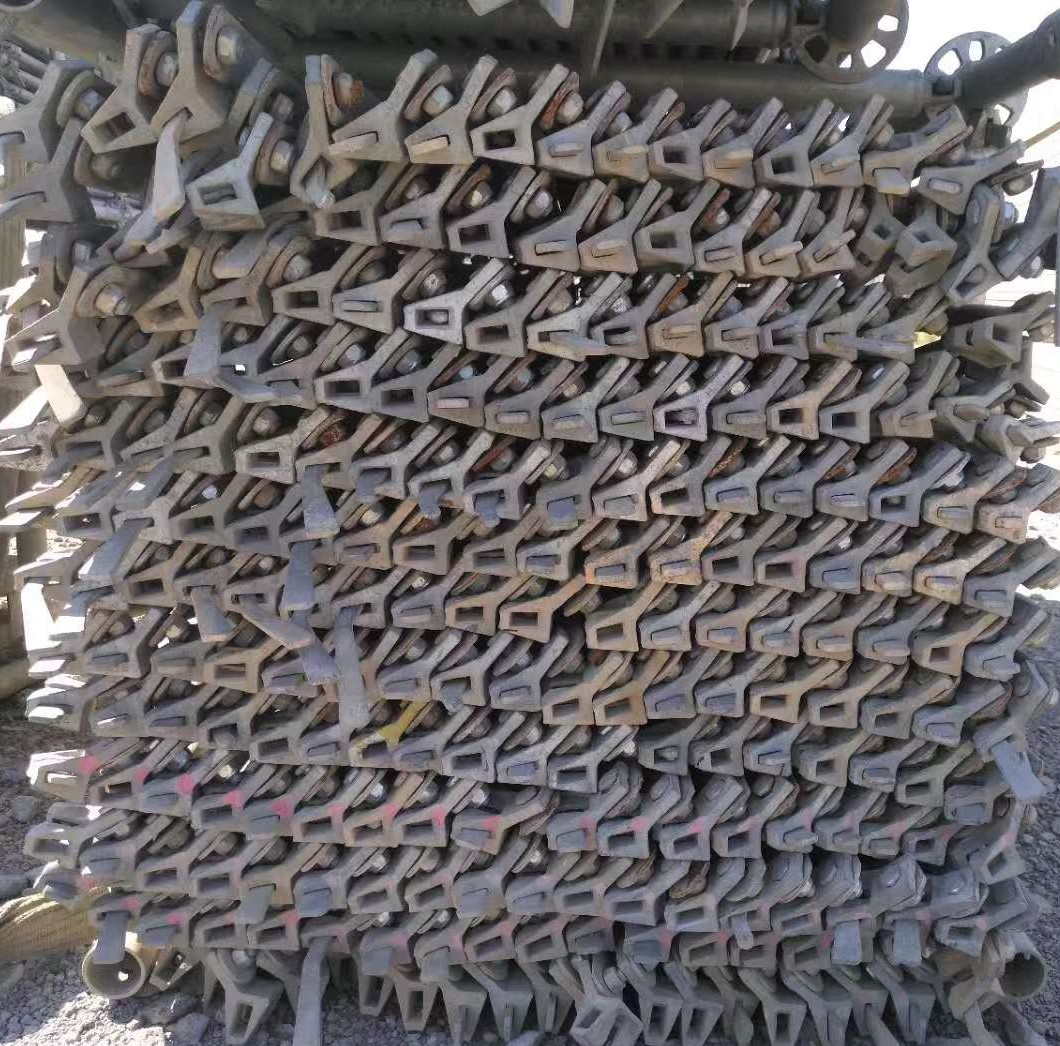sigma_steel: (73, 94, 154, 153), (178, 166, 256, 218), (310, 202, 380, 250), (133, 281, 196, 333), (440, 213, 508, 259), (231, 440, 296, 487), (273, 278, 335, 326), (470, 115, 529, 165), (366, 374, 427, 420), (637, 221, 696, 268), (220, 990, 269, 1046), (891, 221, 949, 267), (462, 315, 525, 357), (755, 145, 814, 189), (201, 649, 260, 693), (391, 979, 438, 1033), (313, 372, 373, 414), (974, 313, 1023, 364), (23, 827, 79, 868), (653, 138, 704, 183), (636, 994, 680, 1046), (222, 515, 282, 553), (117, 568, 177, 606), (541, 756, 600, 794), (582, 614, 639, 653), (567, 998, 624, 1037), (974, 844, 1027, 885), (392, 537, 449, 575), (168, 508, 225, 546), (150, 944, 196, 991), (54, 505, 114, 541), (754, 549, 805, 591), (188, 914, 249, 949), (649, 480, 705, 518), (698, 547, 754, 585), (689, 740, 745, 778), (769, 396, 816, 441), (440, 745, 497, 782), (498, 599, 547, 642), (822, 402, 872, 444), (248, 728, 303, 766), (602, 889, 657, 927), (241, 915, 299, 951), (856, 208, 896, 260), (597, 821, 653, 858), (677, 1000, 722, 1046), (590, 689, 647, 725), (391, 813, 448, 849), (288, 808, 342, 846), (462, 925, 516, 963), (354, 968, 395, 1017), (861, 697, 908, 739), (762, 999, 804, 1046), (347, 877, 400, 914), (443, 599, 497, 635), (405, 874, 456, 912), (709, 823, 762, 859), (513, 928, 566, 964), (662, 899, 718, 933), (751, 684, 801, 722), (537, 690, 587, 728), (768, 905, 822, 940), (88, 772, 139, 809), (190, 865, 241, 902), (152, 346, 197, 387), (346, 731, 397, 767), (191, 795, 242, 831), (811, 691, 858, 730), (914, 637, 962, 675), (939, 918, 985, 957), (135, 860, 189, 893), (893, 771, 941, 808), (782, 934, 830, 971), (659, 825, 711, 859), (551, 883, 603, 917), (871, 488, 918, 525), (803, 749, 847, 788), (906, 827, 948, 866), (679, 935, 728, 967), (731, 938, 773, 972)
sigma_steel_blocked: (143, 85, 228, 145), (3, 314, 88, 368), (330, 109, 405, 165), (1, 170, 71, 224), (395, 117, 472, 165), (945, 249, 1002, 309), (326, 282, 393, 333), (86, 355, 159, 399), (517, 220, 578, 272), (522, 314, 586, 362), (423, 378, 485, 427), (533, 126, 593, 176), (201, 283, 265, 328), (377, 204, 442, 248), (484, 390, 541, 440), (887, 984, 936, 1042), (539, 395, 598, 443), (401, 295, 461, 342), (589, 137, 650, 183), (53, 427, 113, 473), (460, 475, 521, 520), (743, 230, 800, 278), (597, 395, 655, 442), (577, 226, 637, 271), (255, 365, 315, 410), (12, 557, 72, 602), (117, 428, 176, 473), (164, 434, 226, 476), (937, 394, 989, 444), (990, 414, 1039, 467), (78, 641, 141, 682), (527, 981, 573, 1037), (351, 455, 408, 500), (487, 987, 532, 1044), (689, 229, 747, 273), (656, 397, 710, 444), (712, 397, 767, 443), (646, 314, 706, 356), (801, 231, 858, 275), (1, 430, 54, 477), (697, 315, 759, 355), (336, 525, 391, 570), (4, 489, 60, 533), (535, 479, 595, 520), (590, 479, 647, 522), (35, 756, 85, 805), (408, 467, 466, 509), (297, 445, 353, 488), (702, 143, 755, 188), (718, 993, 763, 1046), (813, 482, 871, 523), (846, 984, 889, 1039), (917, 167, 967, 214), (592, 317, 649, 358), (805, 147, 863, 187), (976, 716, 1024, 764), (60, 576, 122, 613), (803, 320, 860, 360), (924, 490, 971, 538), (755, 318, 810, 359), (107, 508, 166, 546), (31, 873, 87, 913), (693, 612, 746, 654), (290, 876, 347, 915), (283, 526, 337, 567), (703, 478, 759, 517), (327, 594, 387, 630), (485, 672, 539, 712), (586, 547, 636, 590), (811, 995, 853, 1046), (25, 693, 81, 731), (461, 538, 515, 577), (976, 505, 1031, 543), (258, 663, 316, 699), (803, 623, 856, 662), (443, 990, 482, 1043), (29, 638, 82, 677), (913, 563, 961, 606), (879, 402, 933, 440), (518, 540, 568, 581), (867, 323, 918, 363), (376, 666, 431, 703), (130, 913, 188, 948), (449, 813, 501, 852), (389, 594, 445, 630), (810, 557, 863, 595), (497, 749, 547, 789), (823, 904, 877, 941), (651, 546, 702, 585), (223, 584, 278, 620), (141, 705, 196, 741), (763, 481, 815, 519), (636, 613, 688, 651), (90, 701, 140, 740), (196, 717, 250, 753), (78, 848, 135, 882), (967, 576, 1014, 617), (386, 740, 441, 775), (448, 873, 500, 910), (942, 784, 990, 824), (431, 669, 484, 705), (340, 812, 390, 850), (241, 869, 292, 906), (865, 153, 914, 191), (693, 681, 742, 719), (176, 573, 229, 608), (410, 933, 463, 968), (150, 647, 200, 684), (865, 560, 913, 598), (848, 755, 896, 793), (638, 738, 687, 775), (623, 926, 672, 963), (135, 783, 186, 818), (235, 803, 286, 838), (543, 821, 597, 854), (861, 626, 909, 663), (741, 741, 789, 778), (357, 934, 410, 967), (296, 734, 347, 768), (564, 920, 615, 954), (966, 645, 1013, 681), (914, 710, 959, 747), (298, 923, 350, 955), (766, 819, 816, 852), (506, 880, 551, 916), (89, 900, 138, 933), (752, 621, 798, 656), (650, 687, 696, 722), (885, 908, 933, 941), (818, 820, 863, 853), (859, 824, 899, 859)
